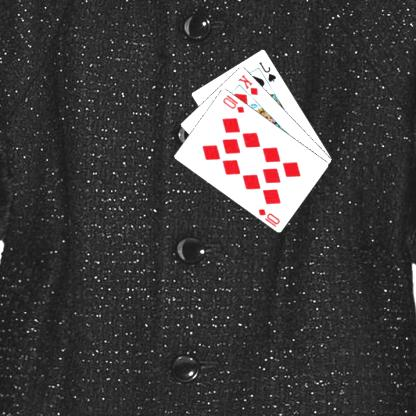10D: (257, 206, 283, 228), (222, 92, 247, 114)
JS: (258, 59, 279, 83)
KD: (237, 72, 262, 96)
